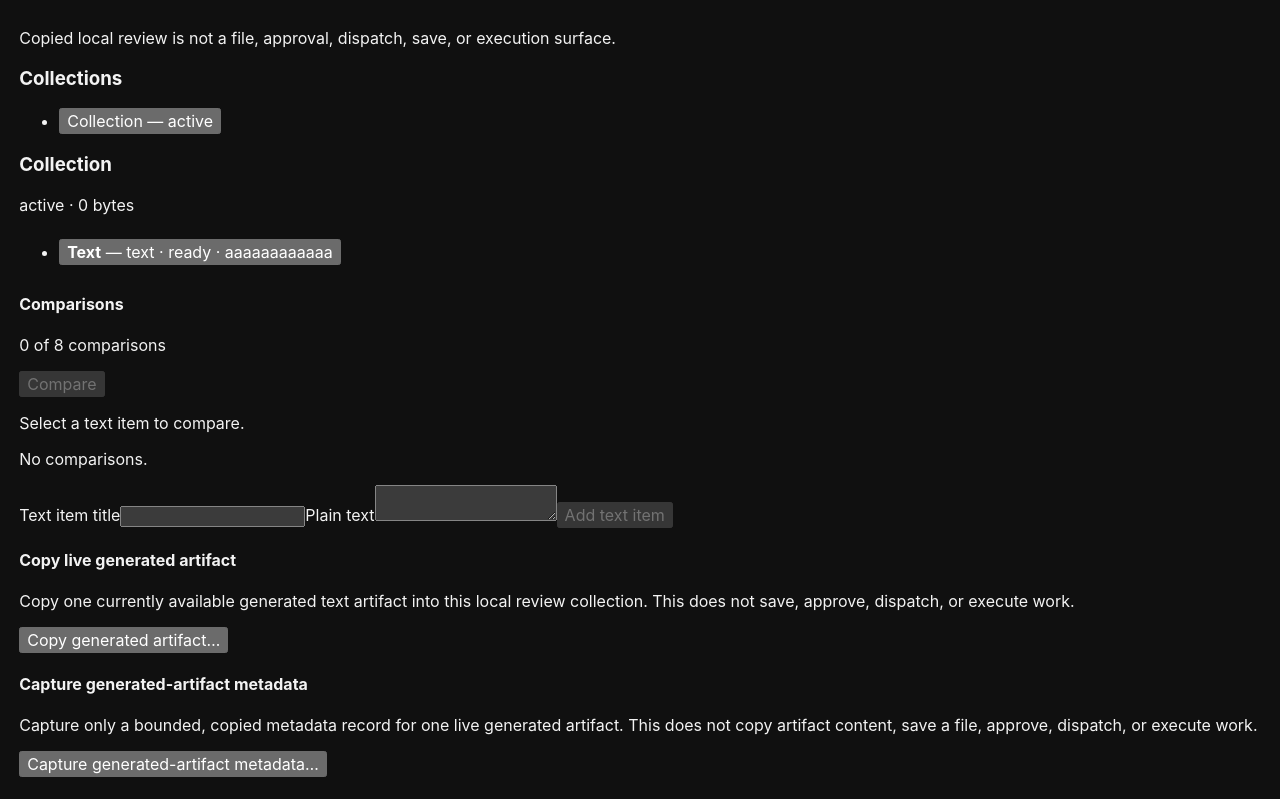
Scenario: local review image pane › renders plain text only as inert Plain text
Click the button "Text — text": coordinates (200, 252) [59, 239, 341, 265]
(page scrolled)
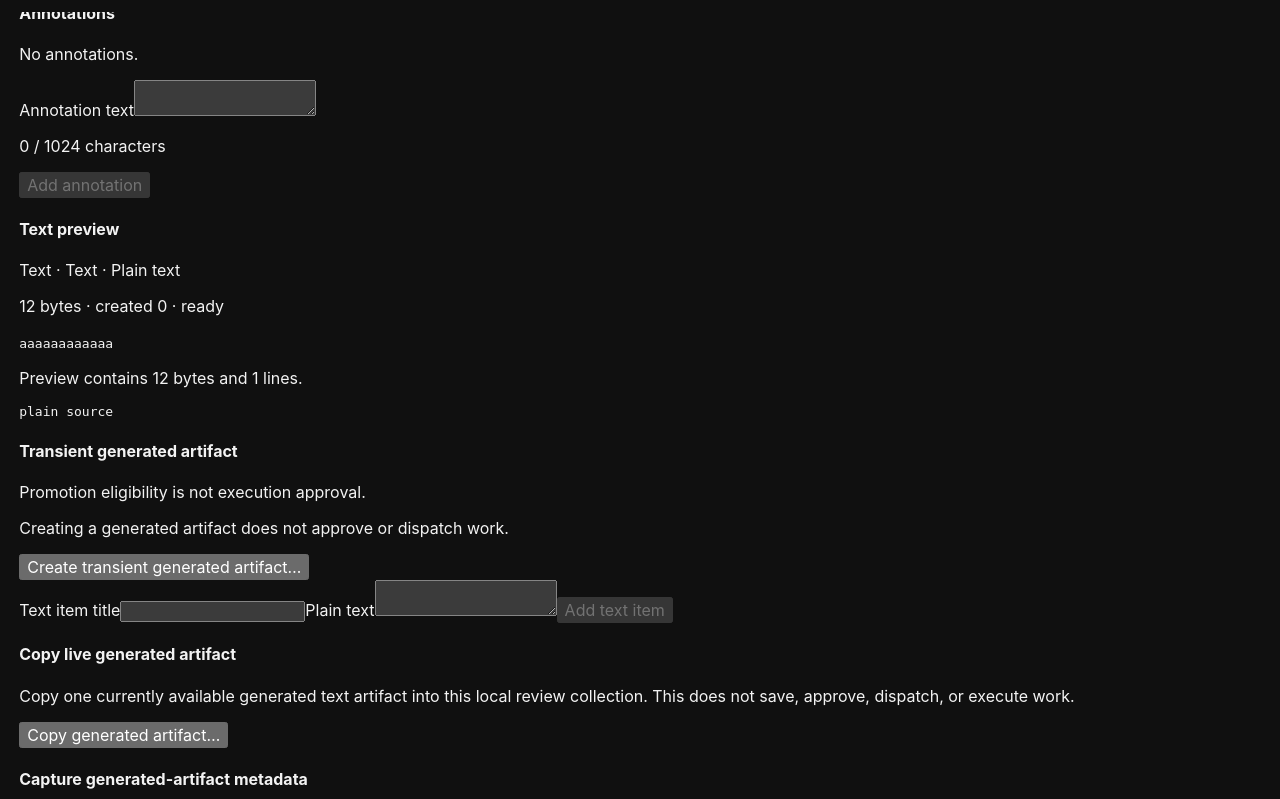
Result: the text "plain source" is shown at [19, 404, 113, 420]
